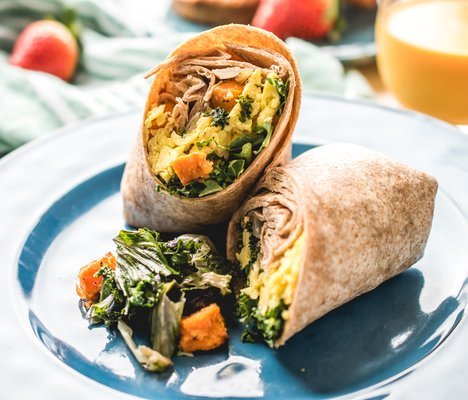curry: (82, 228, 239, 368)
pizza: (374, 1, 468, 127)
soup: (226, 142, 438, 349), (118, 24, 303, 233)
sushi: (120, 24, 303, 234)
